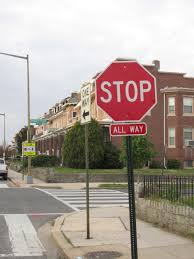stop_sign: (95, 59, 158, 124)
